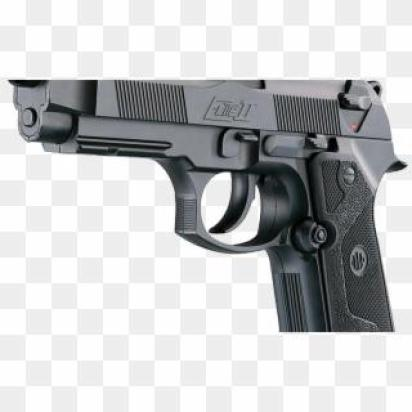Gun: (0, 48, 411, 348)
